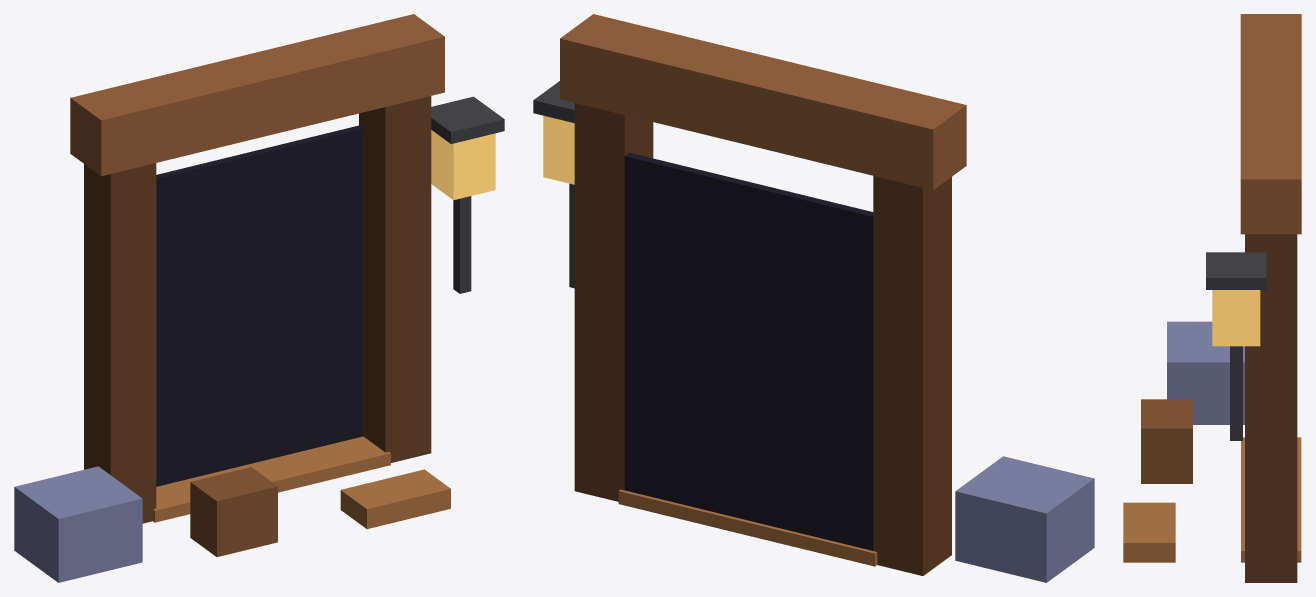
File: CaveEntrance.glb
3 views of the same model, side by side, from view 1: azimuth 30°, elevation 25°; view 2: azimuth 150°, elevation 25°; view 3: azimuth 270°, elevation 25° (orthographic). The views are drawn at different scales.
Parts seen in each view (by area): view 1: CaveEntrance; view 2: CaveEntrance; view 3: CaveEntrance.
Boxes of the visible parts, <box> form: CaveEntrance: <box>14,14,504,582</box>; CaveEntrance: <box>533,14,1094,582</box>; CaveEntrance: <box>1123,14,1301,582</box>.
Size of the model in its own units: 12.2 by 10.4 by 4.1.
2 materials, 2 textured.
